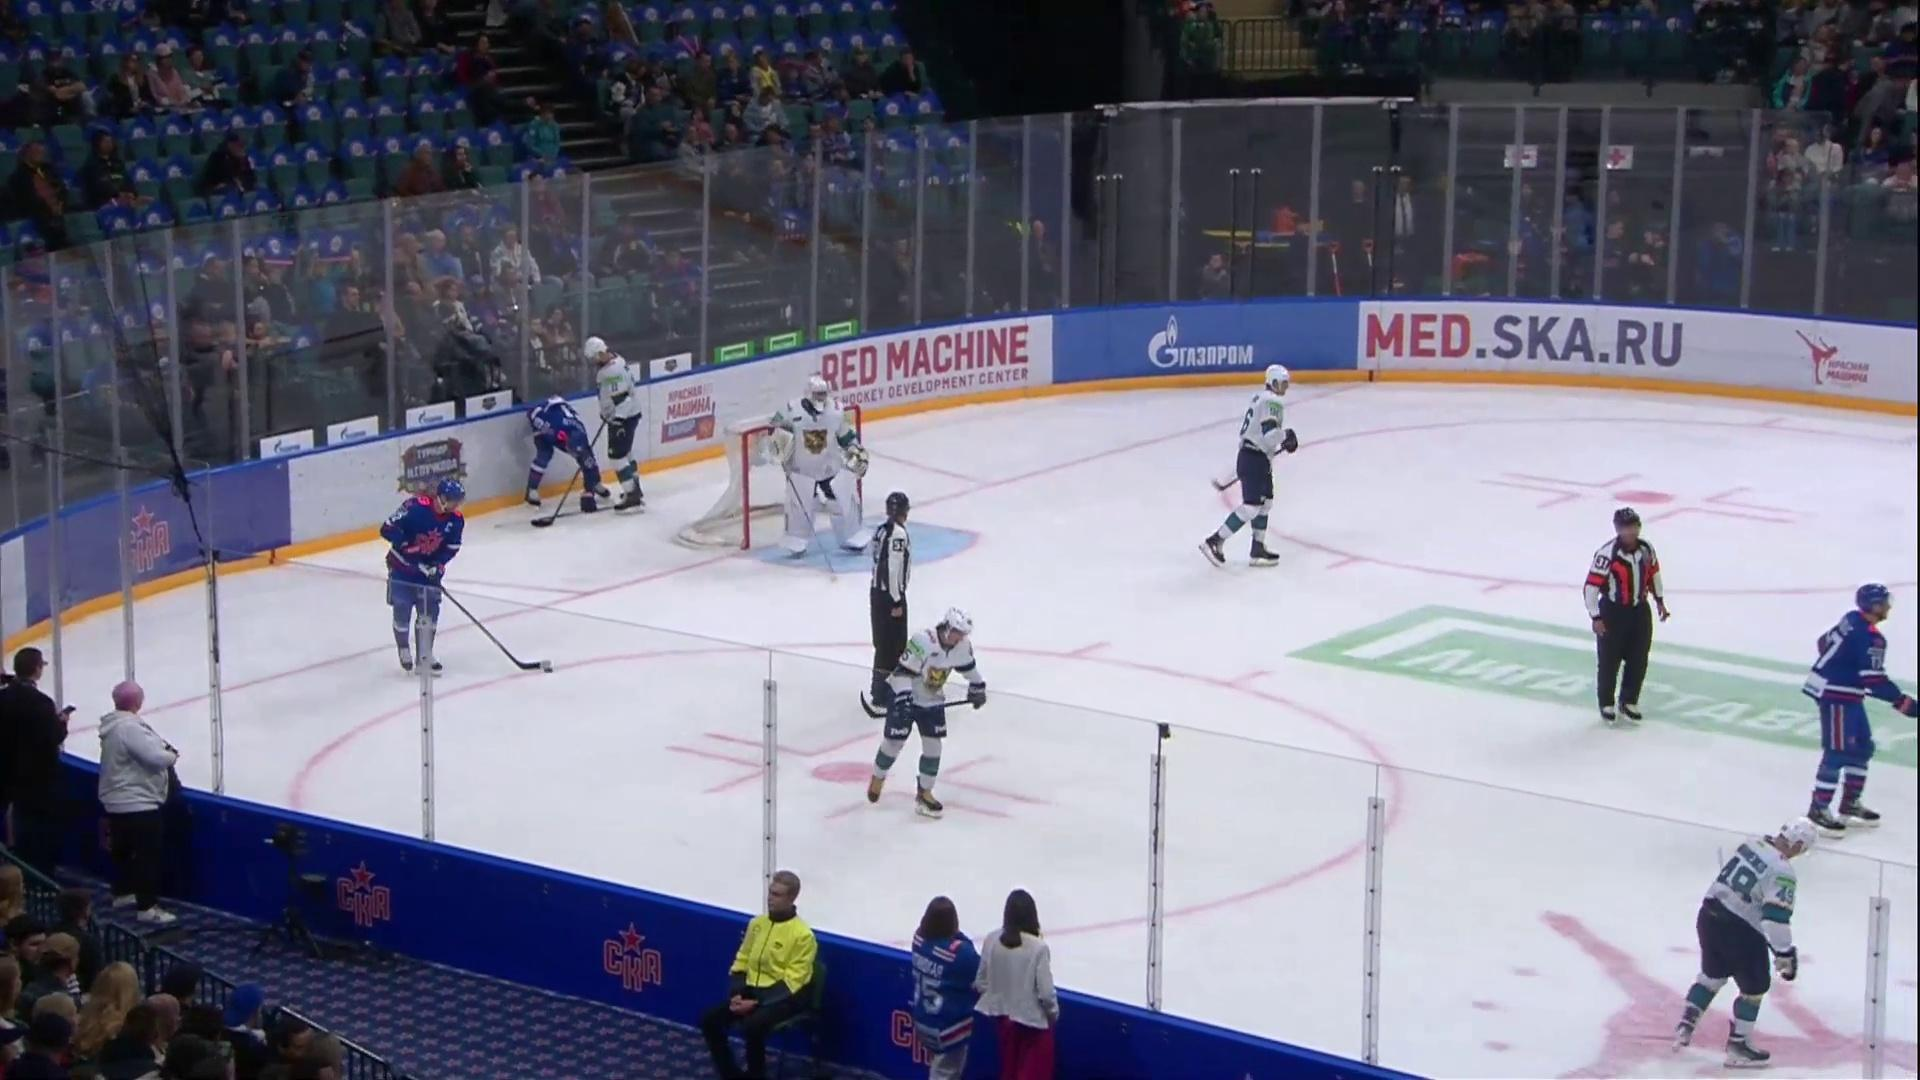ball: (543, 667, 553, 674)
